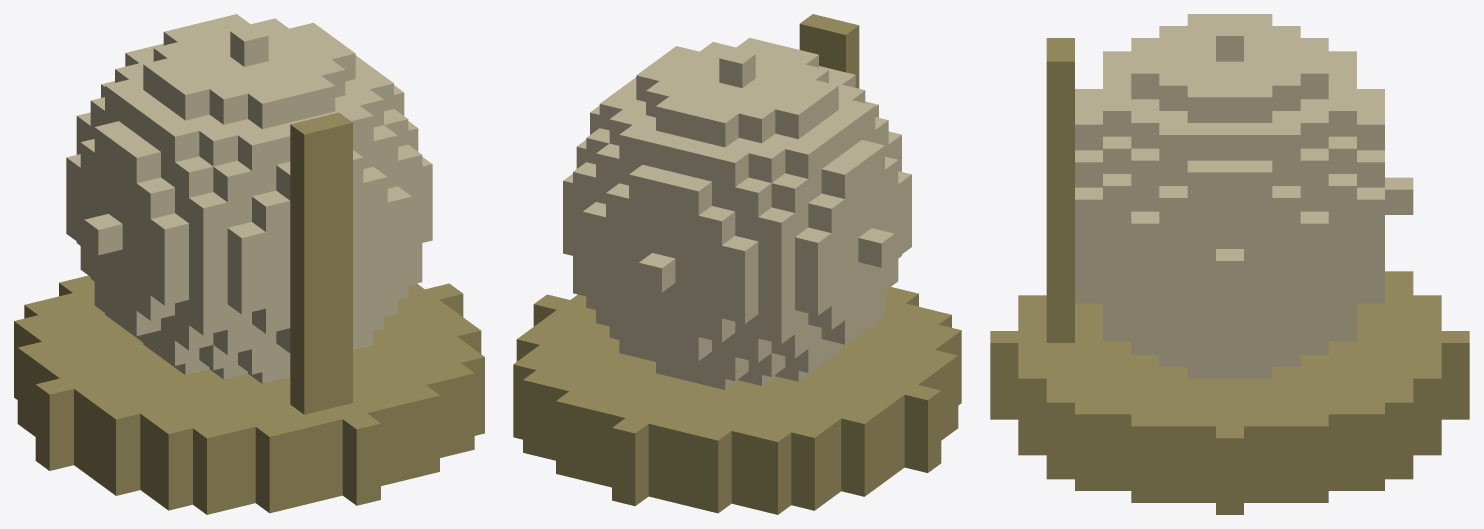
Rendered from sports-14.glb.
The picture shows the model from 3 angles, left to right: view 1: azimuth 30°, elevation 25°; view 2: azimuth 150°, elevation 25°; view 3: azimuth 270°, elevation 25°; orthographic projection. The views are drawn at different scales.
Visible parts, largest first — view 1: Stadium model; view 2: Stadium model; view 3: Stadium model.
Part boxes in pixels (x1,y1,x2,y2): Stadium model: [14, 14, 484, 514]; Stadium model: [513, 14, 961, 514]; Stadium model: [990, 14, 1469, 514].
Size of the model in its own units: 1.36 by 1.2 by 1.36.
